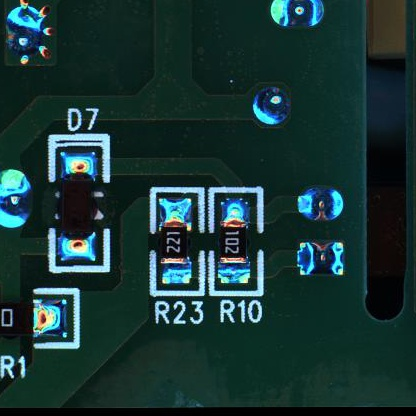spot: (5, 1, 53, 69), (1, 166, 35, 228), (297, 183, 344, 223), (297, 241, 346, 277), (251, 86, 291, 127), (269, 1, 324, 29)
